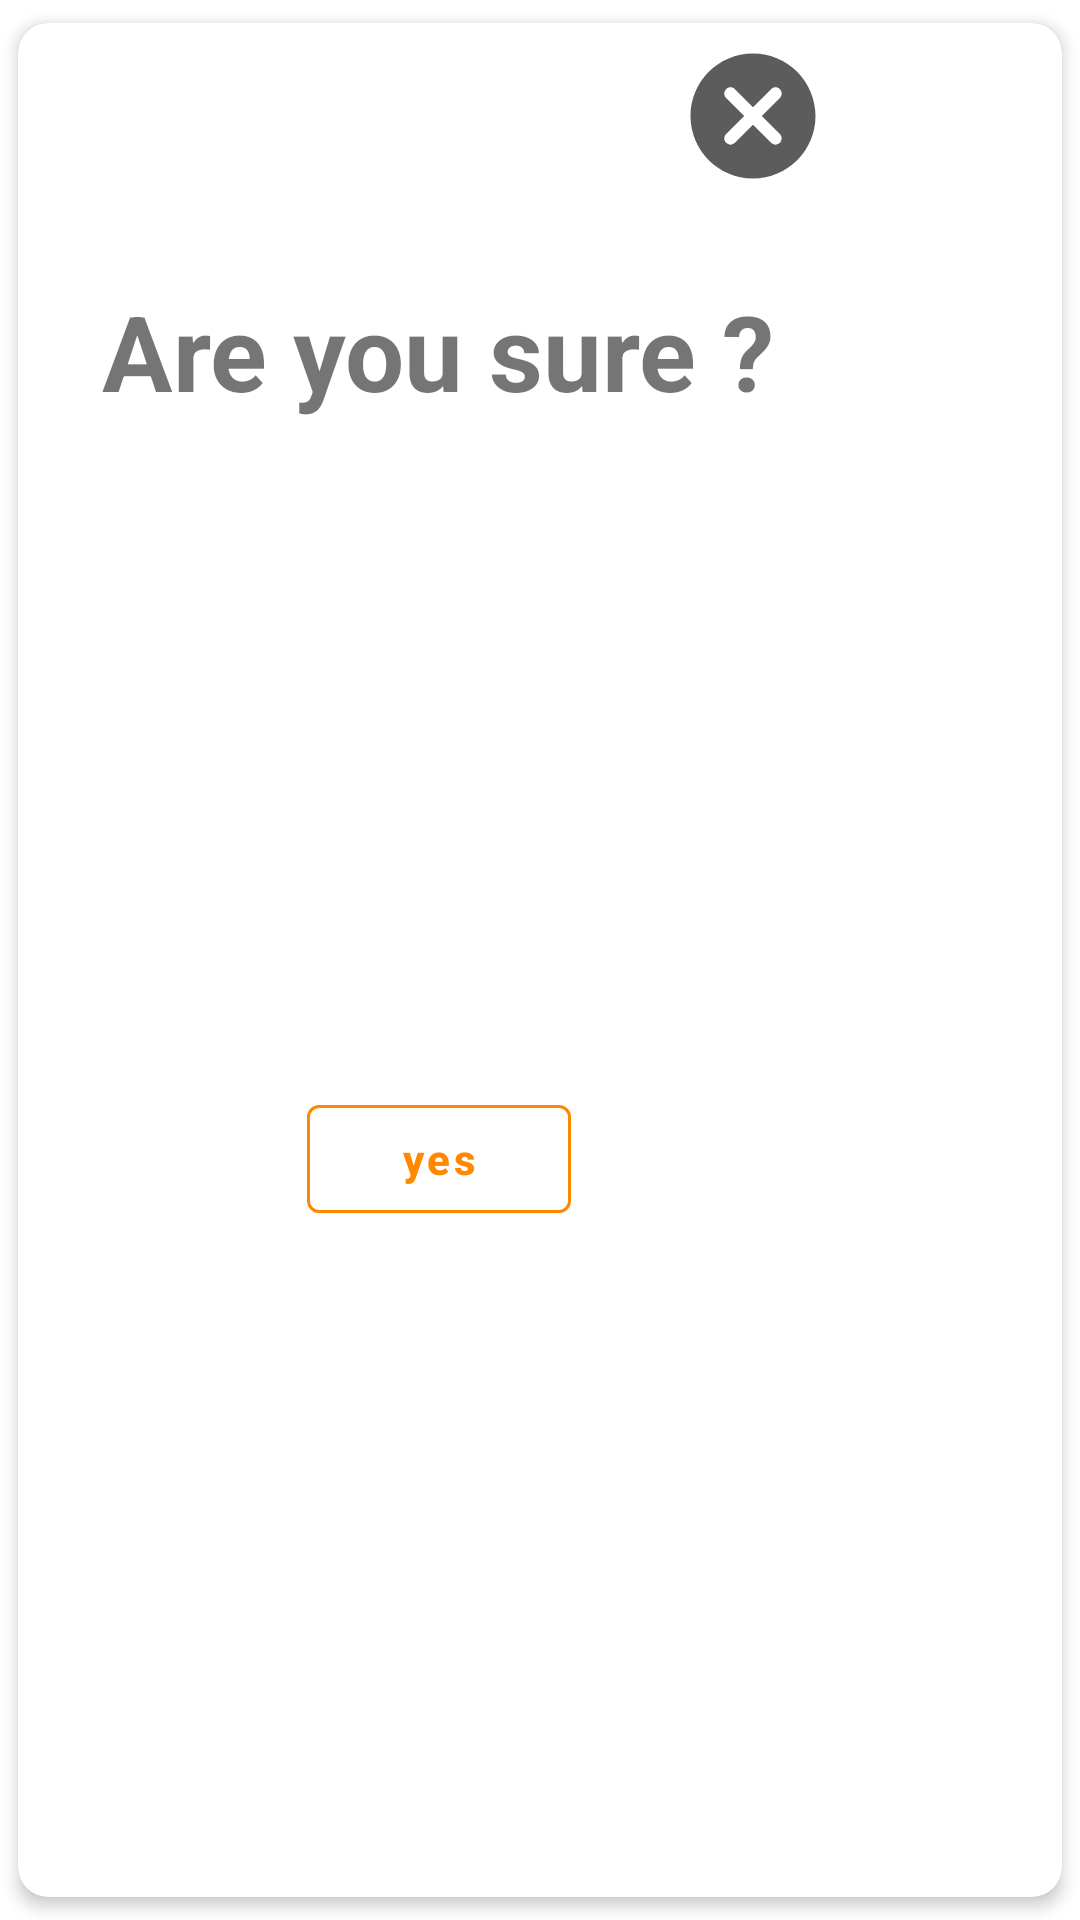

Where to tap for icons on this 1080x1920 app screen, as (x=x, y=y):
cancel: (x=753, y=116)
